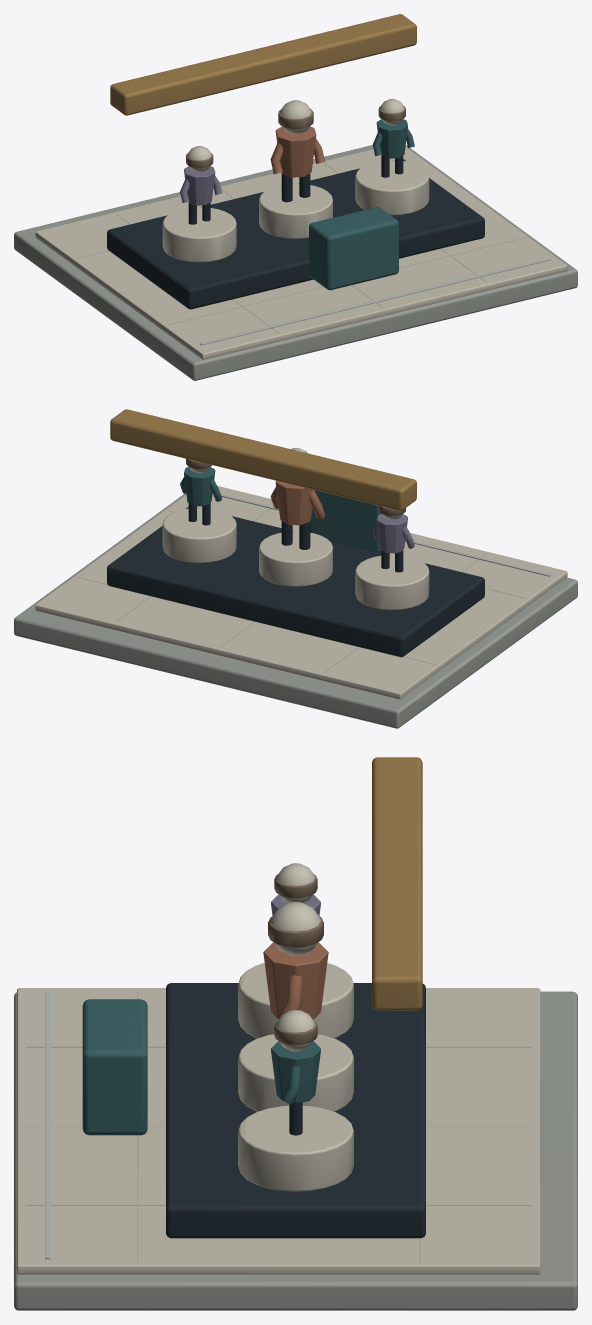
File: idea-70c69e88.glb
3 renders of one model, top to bottom at view 1: azimuth 30°, elevation 25°; view 2: azimuth 150°, elevation 25°; view 3: azimuth 270°, elevation 25°, orthographic. The views are drawn at different scales.
Visible parts, largest first — view 1: Keltech Employee Avatars; view 2: Keltech Employee Avatars; view 3: Keltech Employee Avatars.
Part boxes in pixels (x1,y1,x2,y2): Keltech Employee Avatars: [14, 14, 577, 380]; Keltech Employee Avatars: [14, 409, 577, 728]; Keltech Employee Avatars: [14, 757, 577, 1310].
Size of the model in its own units: 4.8 by 2.28 by 3.9.
